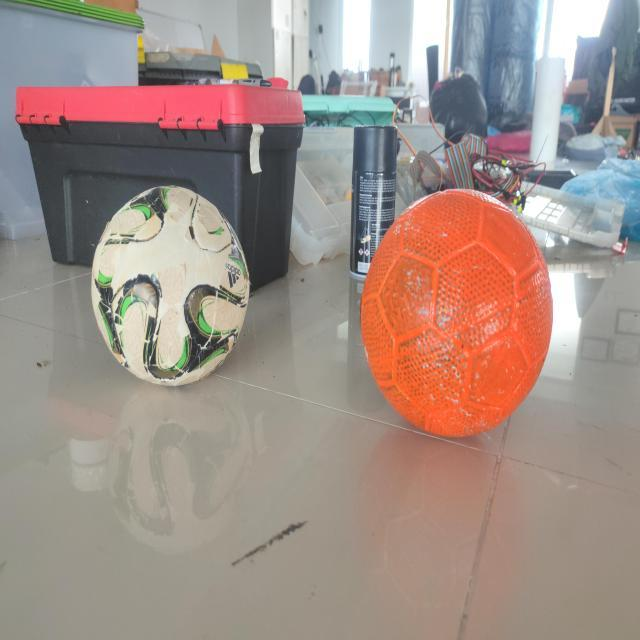bola: (359, 187, 556, 439)
